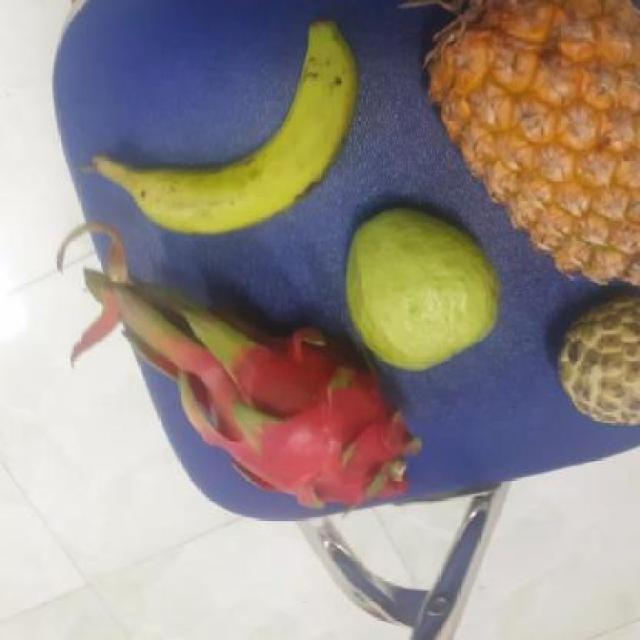banana: (94, 32, 354, 230)
dragon fruit: (202, 323, 416, 511)
guava: (338, 212, 499, 368)
sugar apple: (548, 293, 640, 422)
